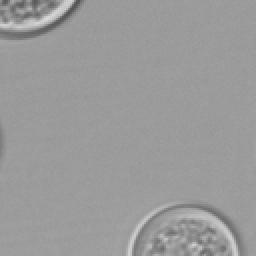picoshell: (128, 201, 243, 256)
